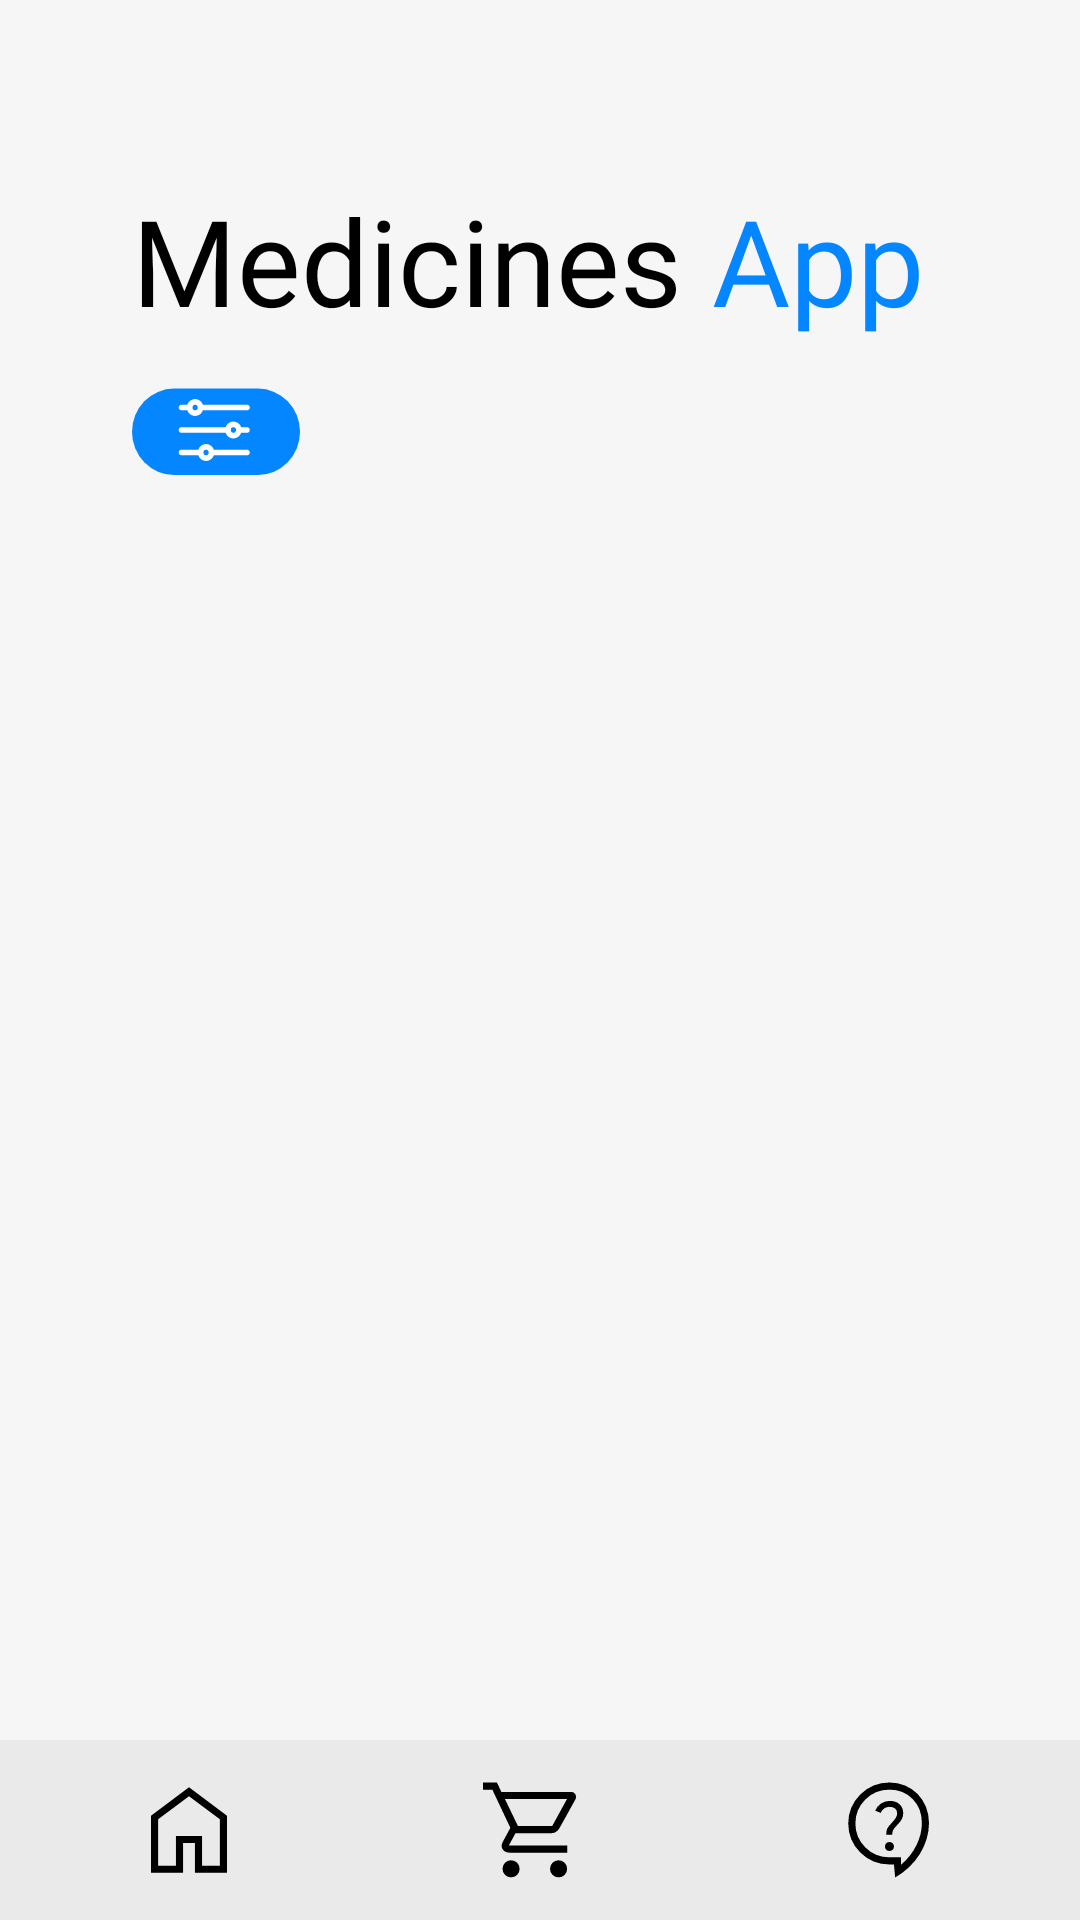

Icon bounding boxes for this 1080px x 1920px phone screenshot, format [x1, y1, x2, y2]:
Cart: [483, 1782, 576, 1878]
Contact: [848, 1782, 929, 1878]
filter: [132, 388, 300, 475]
Home: [151, 1787, 227, 1873]
